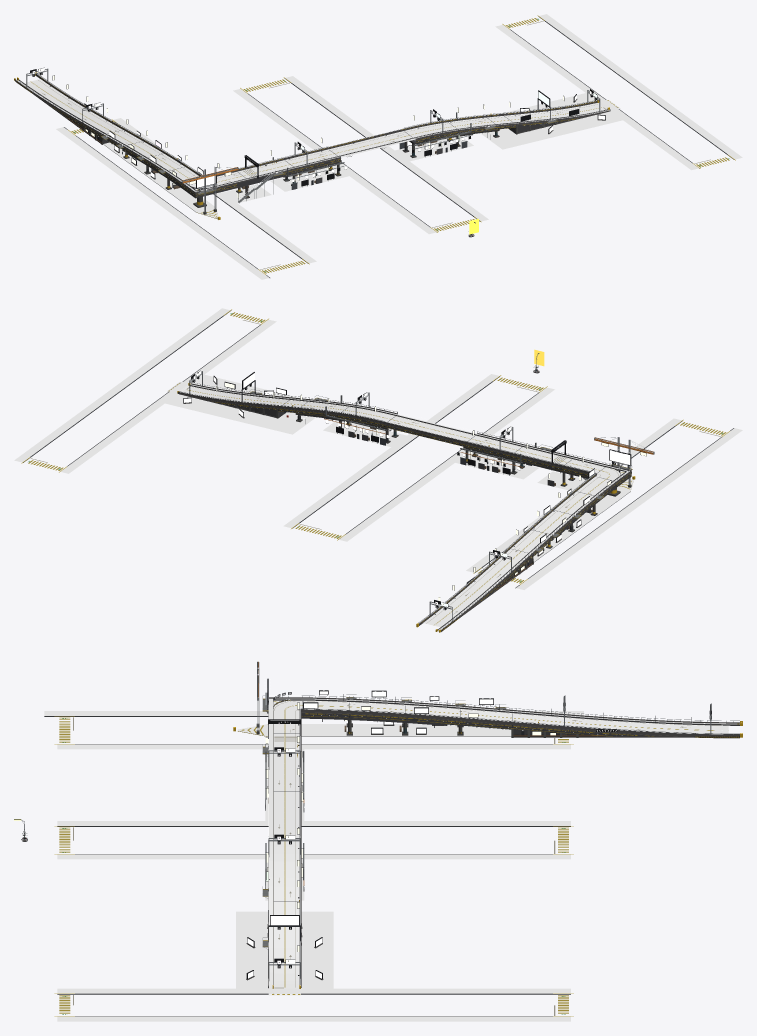
Rendered from world-phone-deck.glb.
3 views of the same model, one above another, from view 1: azimuth 30°, elevation 25°; view 2: azimuth 150°, elevation 25°; view 3: azimuth 270°, elevation 25° (orthographic). The views are drawn at different scales.
Parts seen in each view (by area): view 1: deck_sidewalk, deck_asphalt, deck_castconcrete, deck_steel, deck_trim, deck_paint, deck_kerb, deck_glow, deck_board_frame, deck_billboard, deck_hazard; view 2: deck_sidewalk, deck_asphalt, deck_castconcrete, deck_steel, deck_trim, deck_paint, deck_kerb, deck_glow, deck_board_frame, deck_billboard; view 3: deck_sidewalk, deck_asphalt, deck_castconcrete, deck_paint, deck_kerb, deck_steel, deck_trim, deck_glow, deck_board_frame, deck_billboard.
Part boxes in pixels (x1,y1,x2,y2): deck_sidewalk: (18, 14, 742, 279); deck_asphalt: (24, 79, 620, 190); deck_castconcrete: (15, 74, 610, 214); deck_steel: (15, 68, 610, 211); deck_trim: (17, 15, 735, 274); deck_paint: (30, 18, 729, 273); deck_kerb: (64, 16, 733, 277); deck_glow: (14, 68, 710, 198); deck_board_frame: (30, 67, 605, 197); deck_billboard: (109, 91, 604, 187); deck_hazard: (14, 72, 609, 219); deck_sidewalk: (14, 308, 742, 631); deck_asphalt: (167, 382, 624, 627); deck_castconcrete: (178, 380, 631, 631); deck_steel: (178, 371, 654, 629); deck_trim: (21, 309, 729, 630); deck_paint: (28, 312, 726, 624); deck_kerb: (23, 310, 733, 588); deck_glow: (35, 371, 723, 629); deck_board_frame: (183, 370, 646, 607); deck_billboard: (184, 373, 630, 554); deck_sidewalk: (44, 698, 739, 1021); deck_asphalt: (268, 701, 728, 995); deck_castconcrete: (246, 697, 739, 988); deck_paint: (59, 701, 721, 1015); deck_kerb: (44, 716, 570, 1016); deck_steel: (257, 661, 739, 987); deck_trim: (54, 697, 739, 1016); deck_glow: (257, 667, 741, 985); deck_board_frame: (246, 678, 711, 978); deck_billboard: (247, 691, 493, 978).
Size of the model in its own units: 226 by 20.49 by 224.
